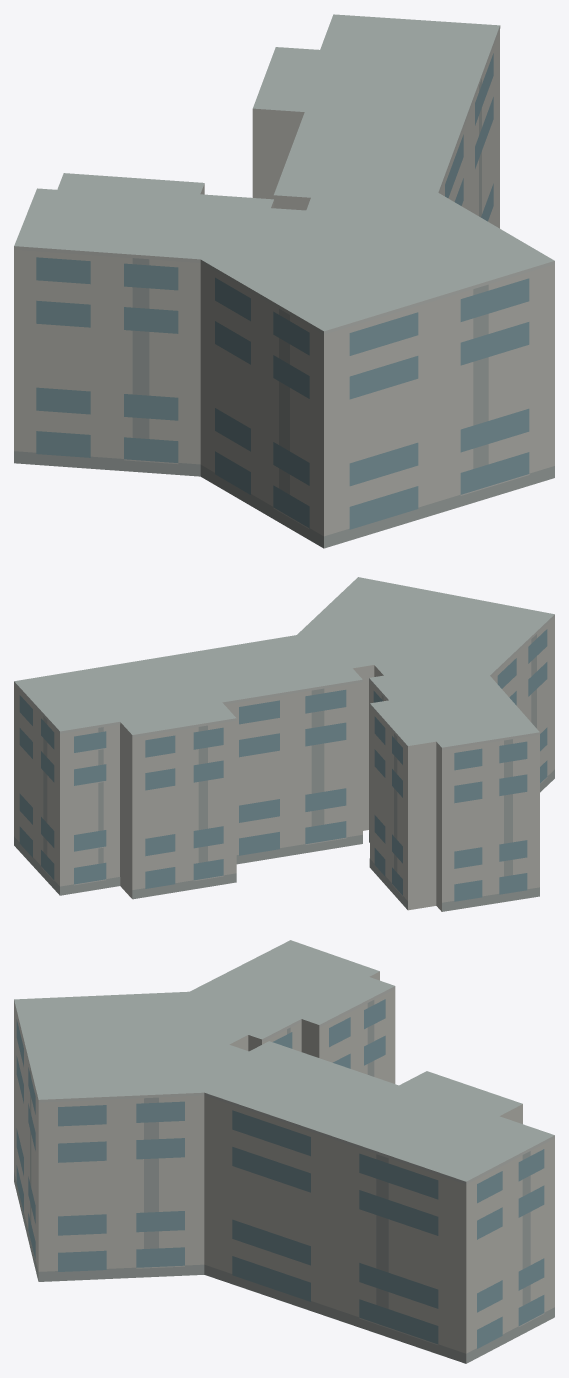
File: residential-d993016f-80b1-4193-9bb4-3670a07b693d.glb
3 renders of one model, top to bottom at view 1: azimuth 30°, elevation 25°; view 2: azimuth 150°, elevation 25°; view 3: azimuth 270°, elevation 25°, orthographic. The views are drawn at different scales.
Visible parts, largest first — view 1: residential-d993016f-80b1-4193-9bb4-3670a07b693d.tmp; view 2: residential-d993016f-80b1-4193-9bb4-3670a07b693d.tmp; view 3: residential-d993016f-80b1-4193-9bb4-3670a07b693d.tmp.
Boxes of the visible parts, x1=… form: residential-d993016f-80b1-4193-9bb4-3670a07b693d.tmp: x1=14, y1=14, x2=554, y2=548; residential-d993016f-80b1-4193-9bb4-3670a07b693d.tmp: x1=14, y1=577, x2=554, y2=911; residential-d993016f-80b1-4193-9bb4-3670a07b693d.tmp: x1=14, y1=940, x2=554, y2=1363.
Bounding box in the file's own units: 43.42 × 15.25 × 41.05.
